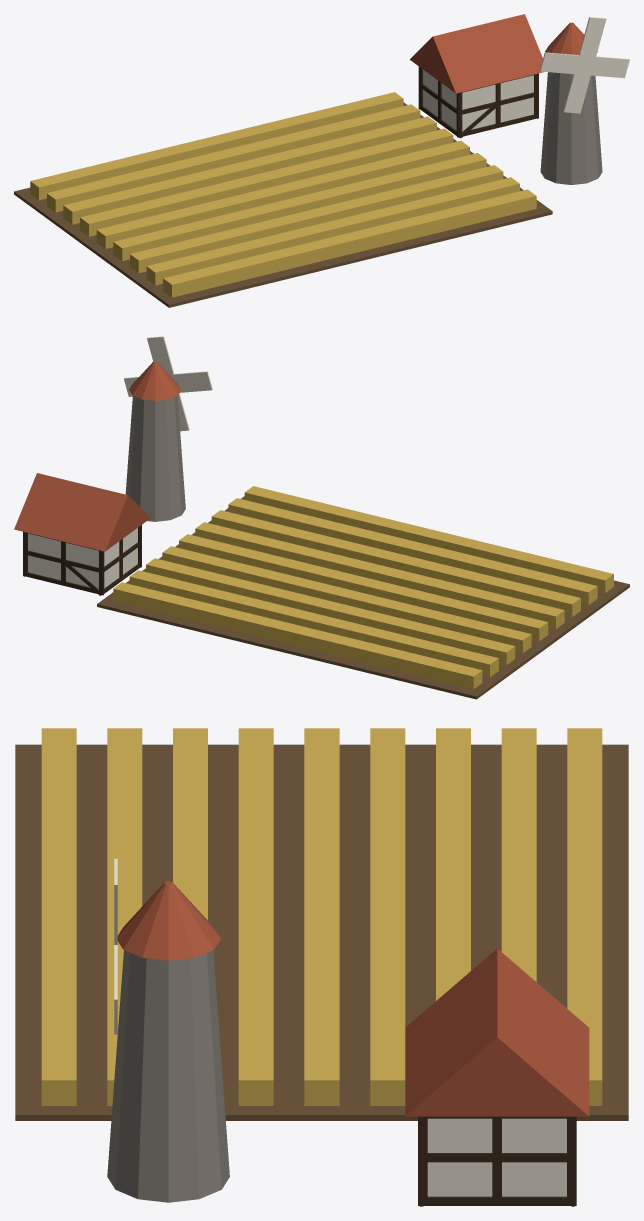
Rendered from farm.glb.
3 views of the same model, one above another, from view 1: azimuth 30°, elevation 25°; view 2: azimuth 150°, elevation 25°; view 3: azimuth 270°, elevation 25° (orthographic). The views are drawn at different scales.
Parts seen in each view (by area): view 1: Farm; view 2: Farm; view 3: Farm.
Part boxes in pixels (x1,y1,x2,y2): Farm: [14, 14, 629, 307]; Farm: [14, 336, 629, 699]; Farm: [15, 728, 628, 1206].
Bounding box in the file's own units: 25.33 × 8.21 × 14.
